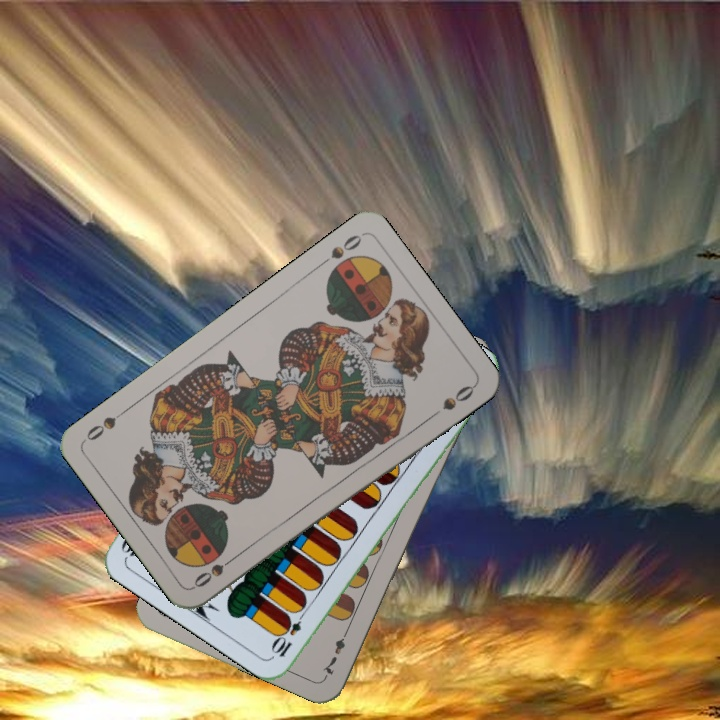E10: (269, 605, 309, 660)
E7: (318, 624, 352, 679)
SO: (189, 550, 241, 590), (314, 230, 365, 270)
